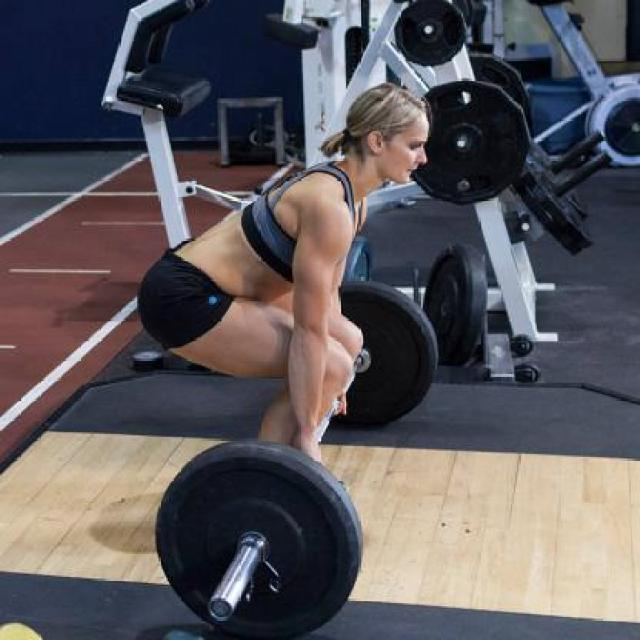barbell: (144, 431, 375, 640), (395, 76, 546, 212), (387, 1, 478, 70)
